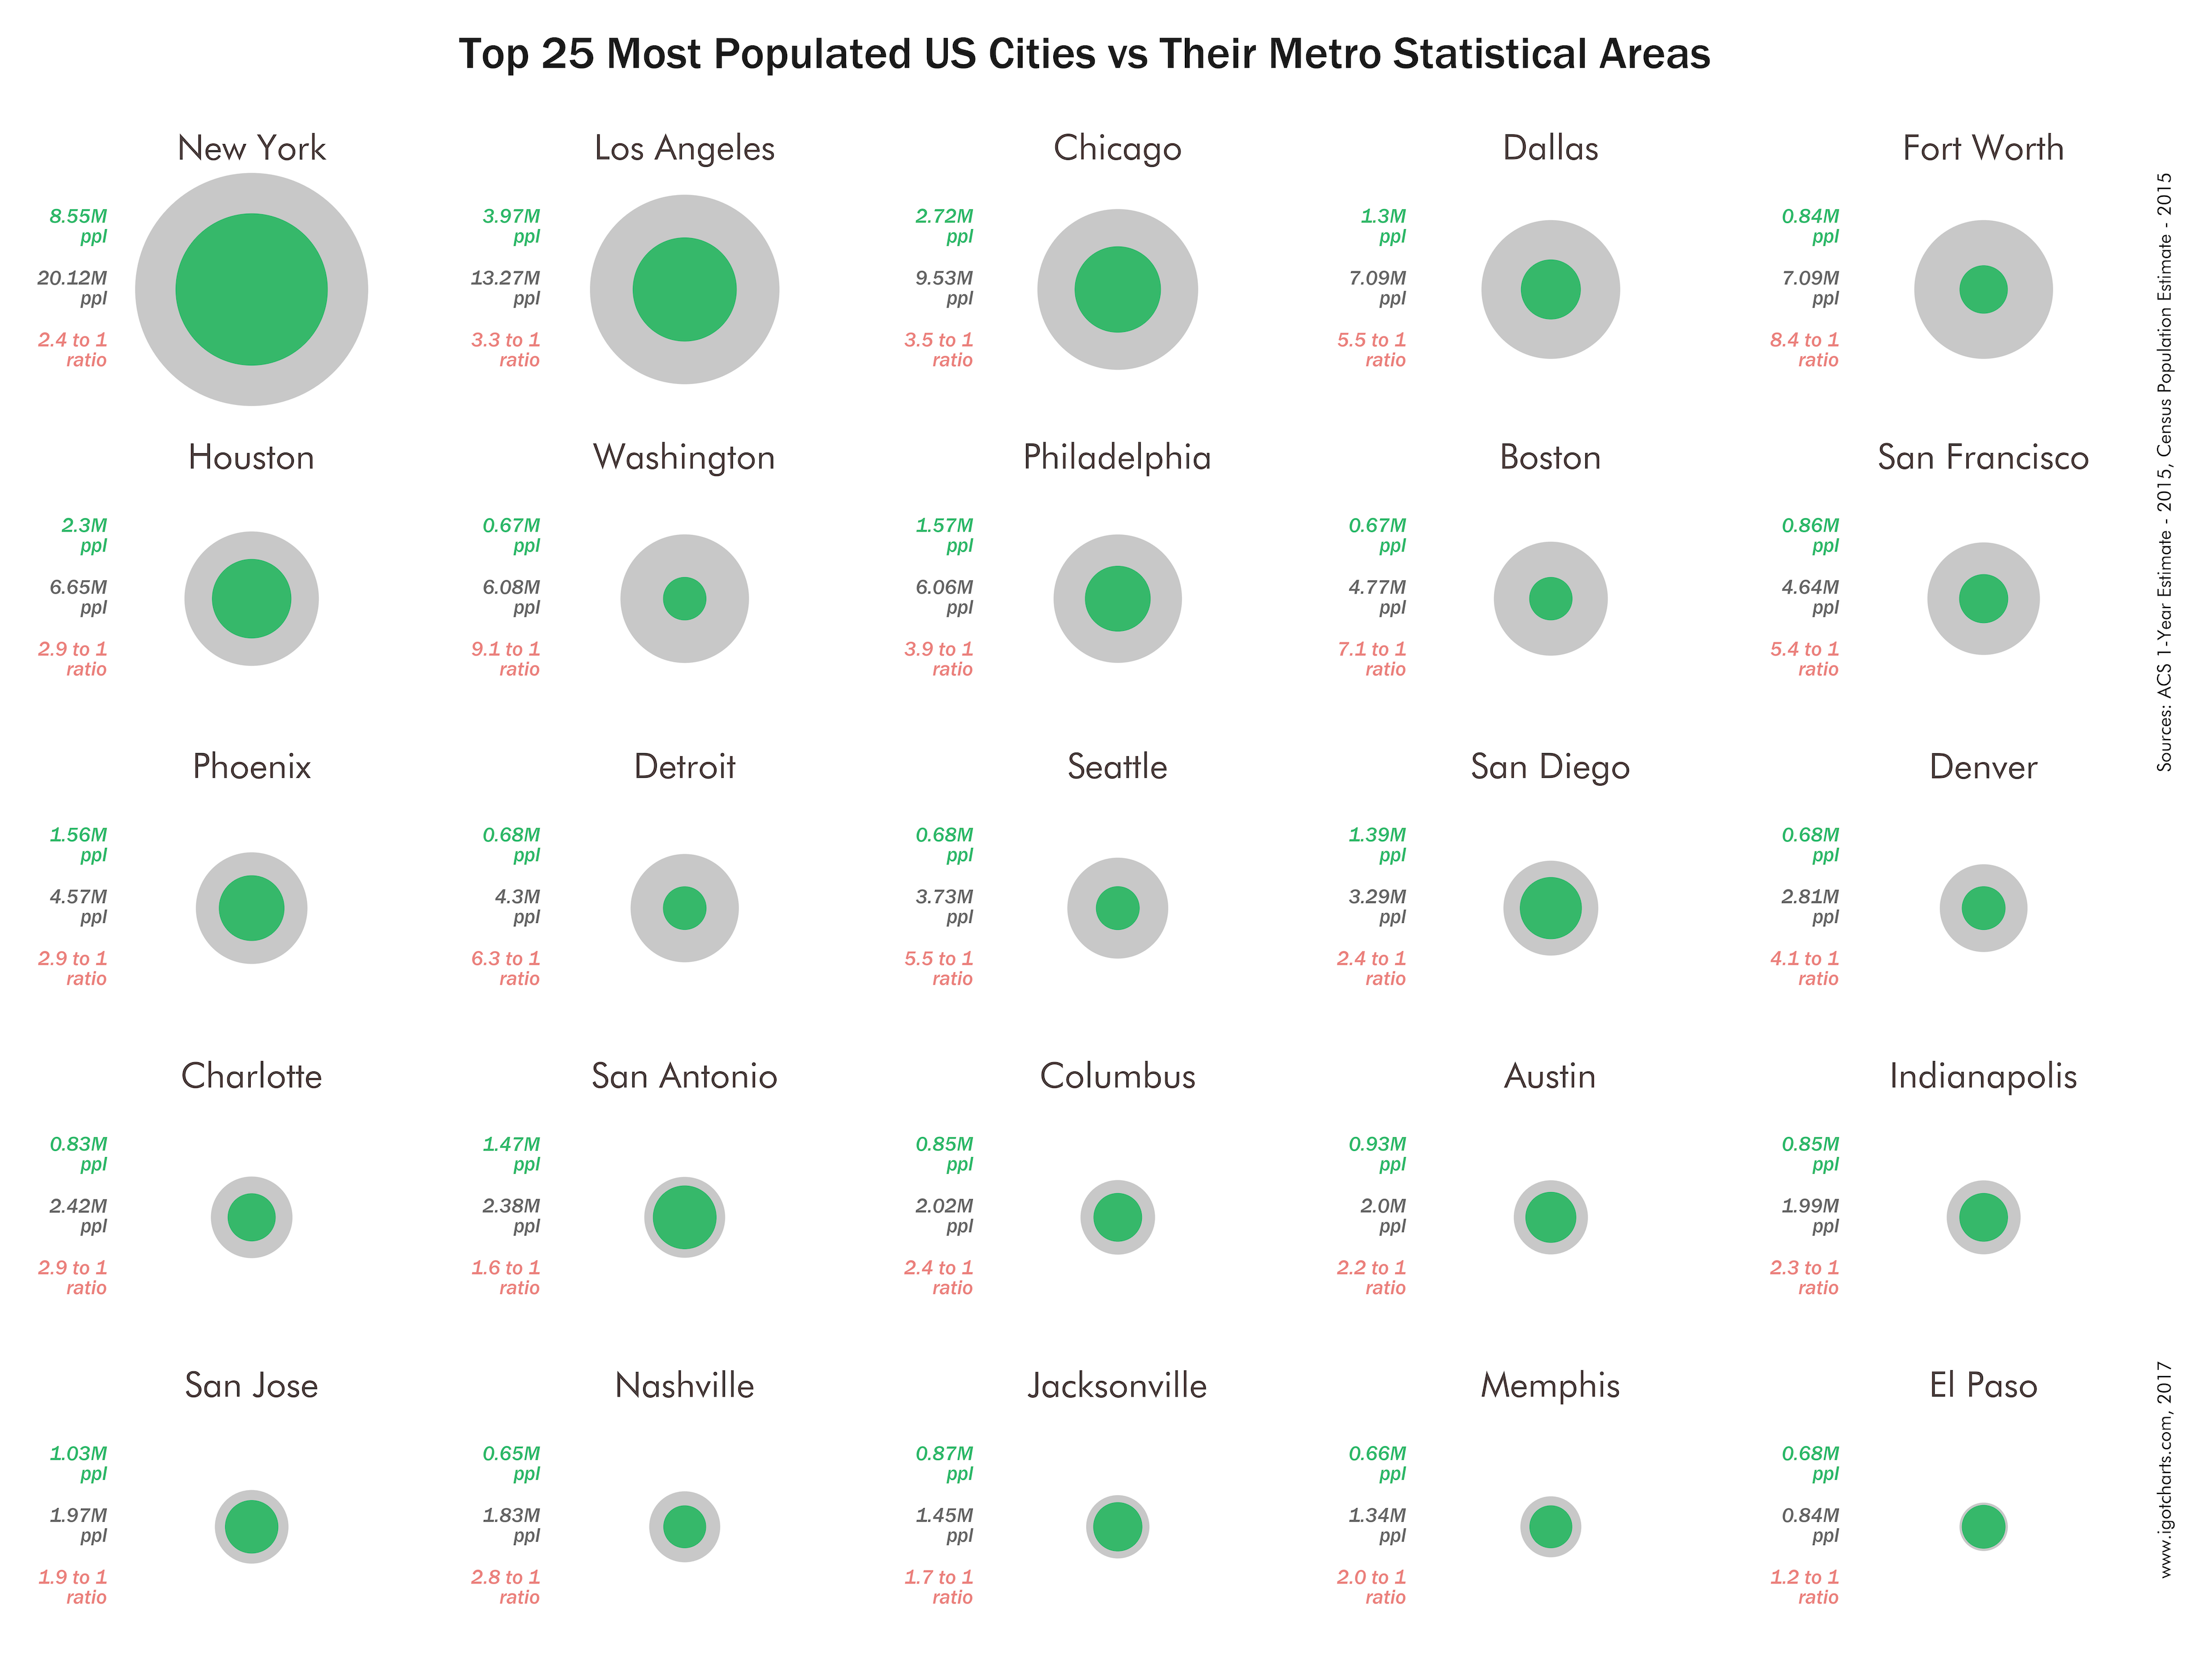

The dashboard page shown, as its layout file describes it:
{"tool":"tableau","page":{"name":"Dashboard 1","canvas":[1000,700],"ordinal":0},"visuals":[{"type":"worksheet","title":"Sheet 1","mark":"Shape","rows":["Function"],"cols":["Chart Type"],"box":[7,10,934,584]},{"type":"worksheet","title":"column totals","mark":"Automatic","cols":["Chart Type"],"box":[166,608,777,31]}]}

Visuals, with their boxes on the page's 1000x700 design canvas (x1, y1, x2, y2). These are canvas units, not pixel positions in the 2212x1667 screenshot, which may show the page scaled, cropped or inside an application window:
"Sheet 1" worksheet (Shape marks): detection(7, 10, 941, 594)
"column totals" worksheet: detection(166, 608, 943, 639)
